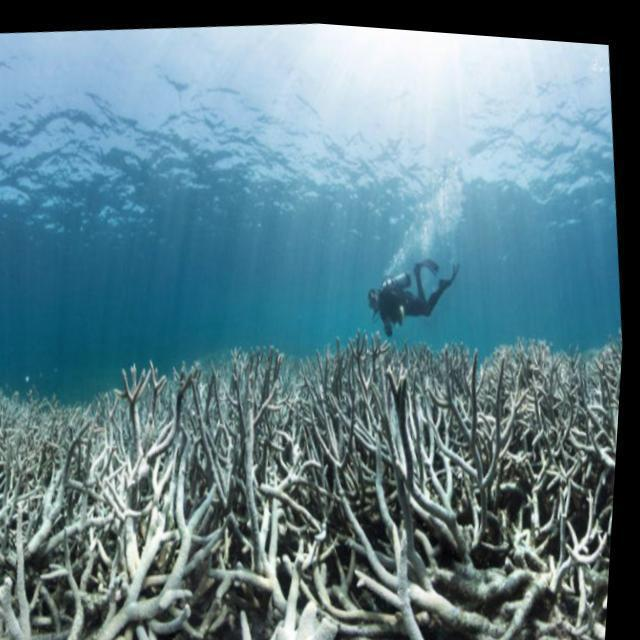Dead Coral: (354, 303, 627, 640), (12, 362, 341, 640)
